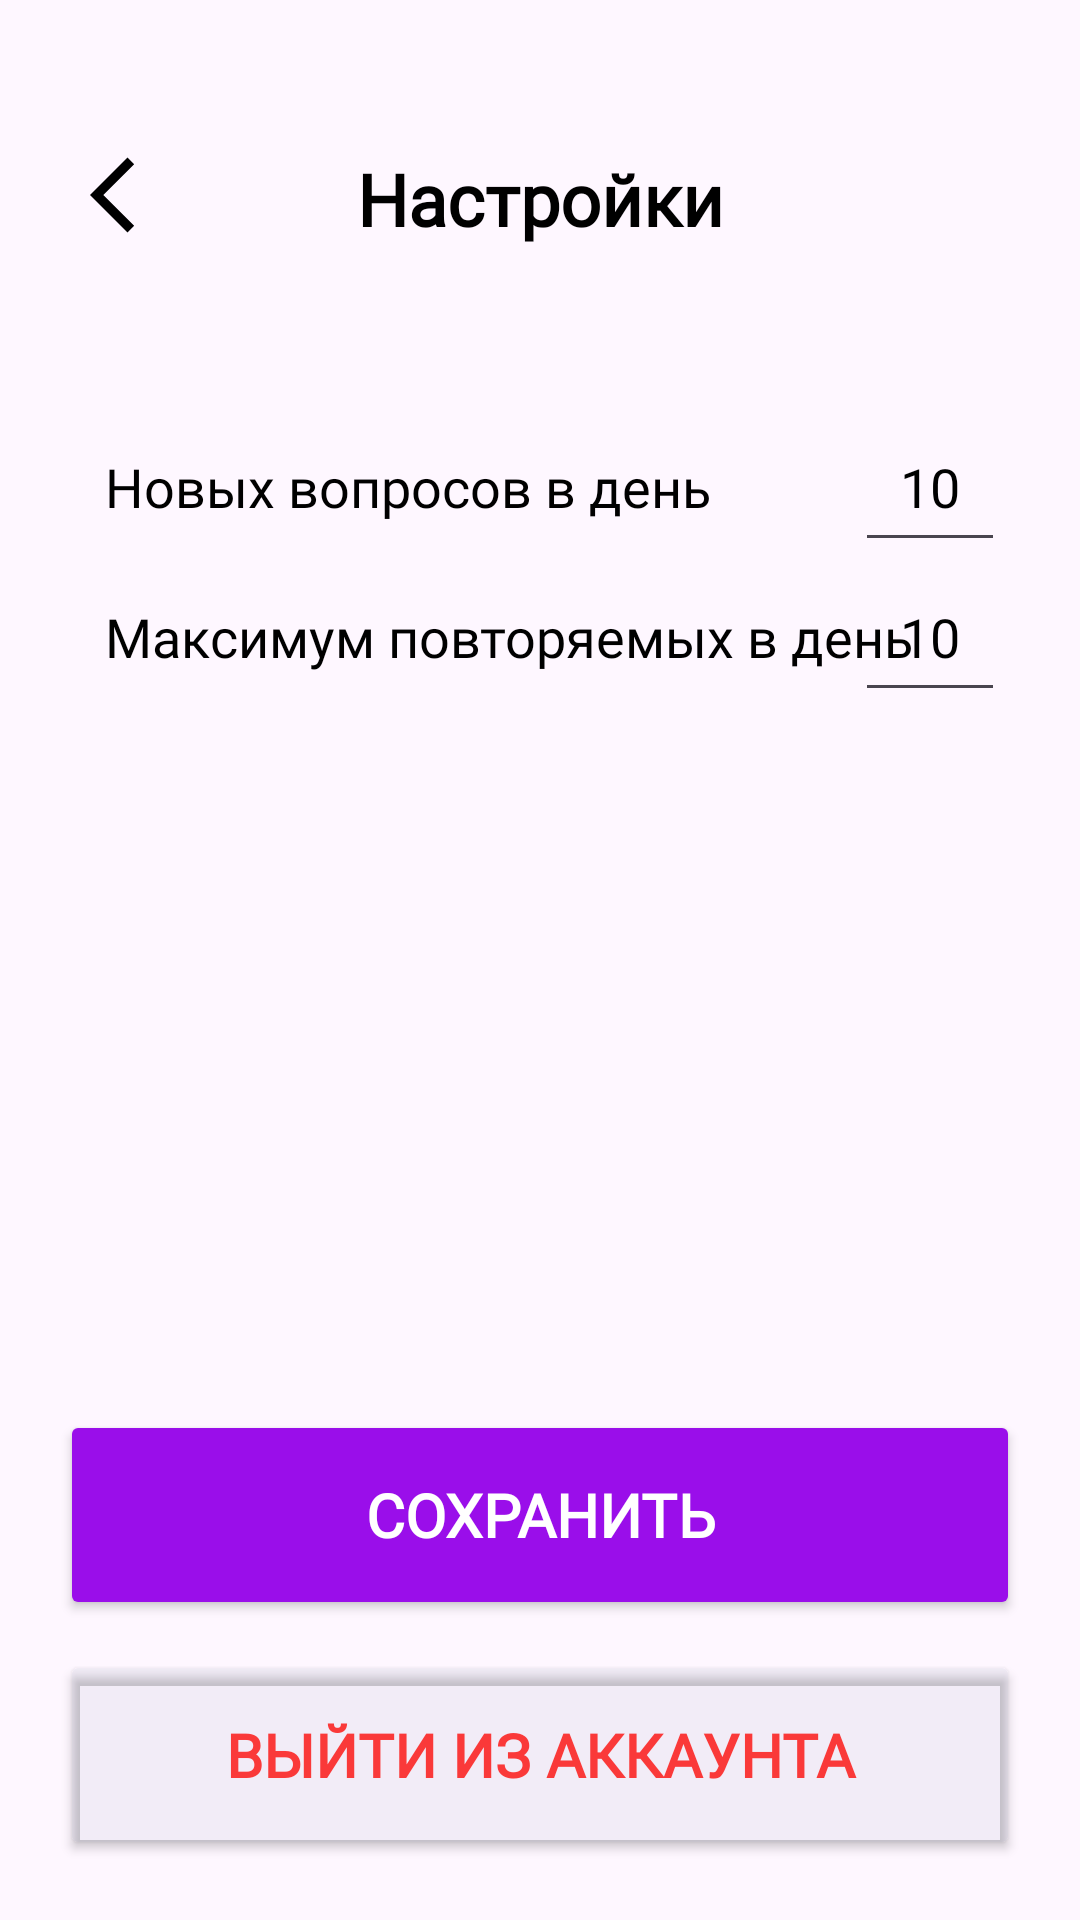

Screen size 1080px x 1920px. Icon name, then its box in pixels as {"x1": x1, "y1": y1, "x2": x2, "y2": y2}:
back to menu button: {"x1": 90, "y1": 157, "x2": 134, "y2": 233}
